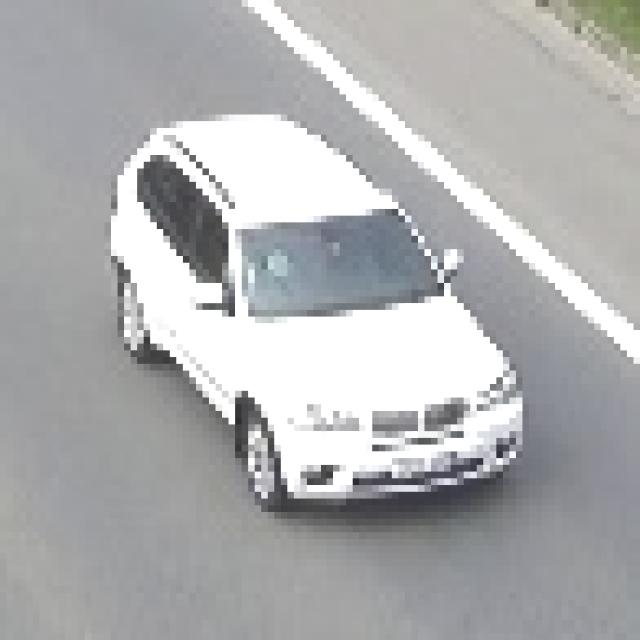SUV: (116, 122, 517, 487)
